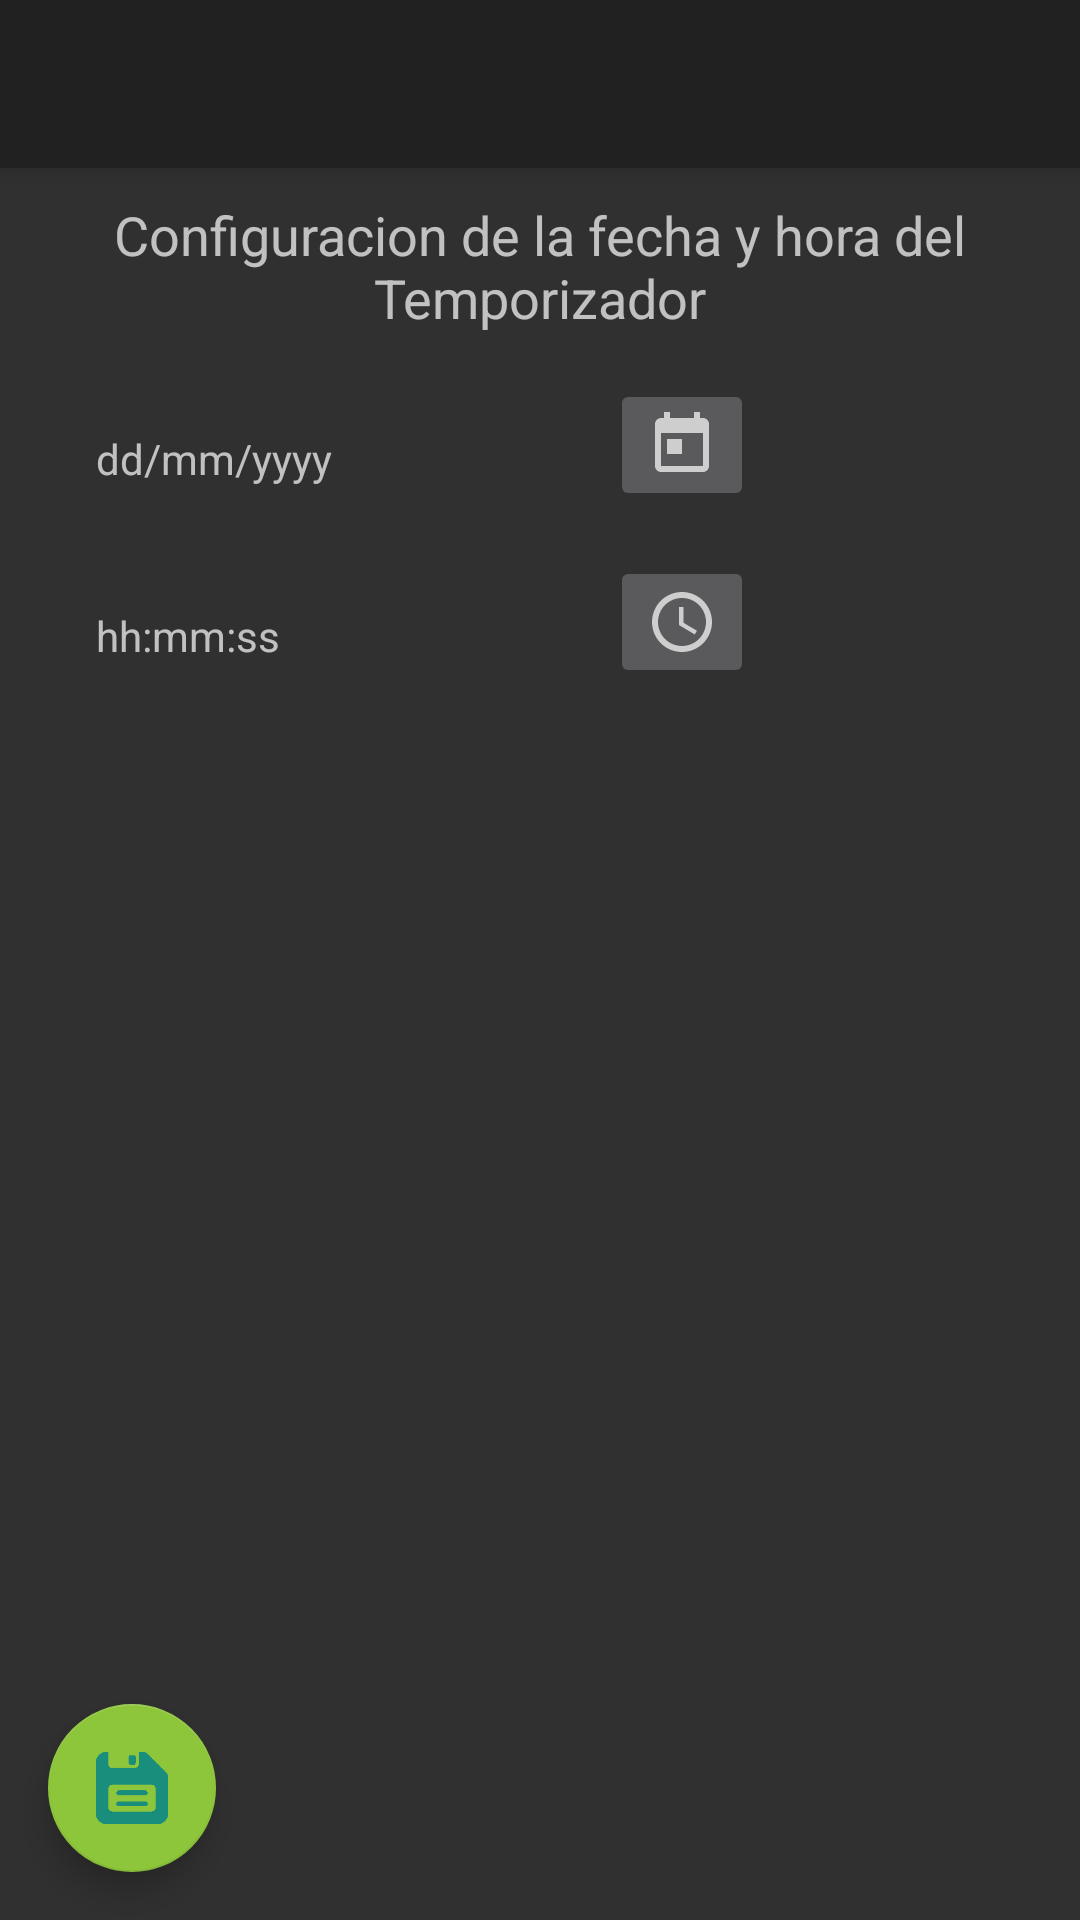

Named icons in this screenshot (1080 × 1920) and their centers, point (x, y):
save: point (132, 1788)
schedule: point (682, 622)
today: point (682, 445)
